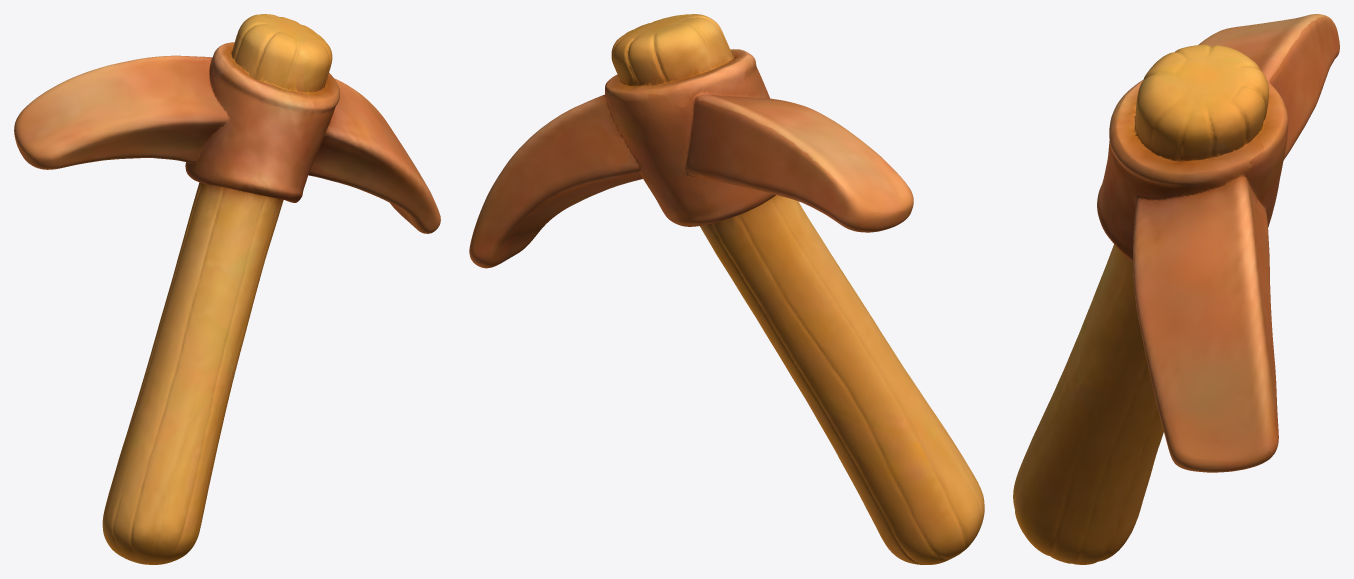
The model's file is cuoc-chim.glb.
3 views of the same model, side by side, from view 1: azimuth 30°, elevation 25°; view 2: azimuth 150°, elevation 25°; view 3: azimuth 270°, elevation 25° (orthographic). The views are drawn at different scales.
Bounding box in the file's own units: 0.2391 × 0.2755 × 0.1336.
Materials: 1 (1 with a texture image).
